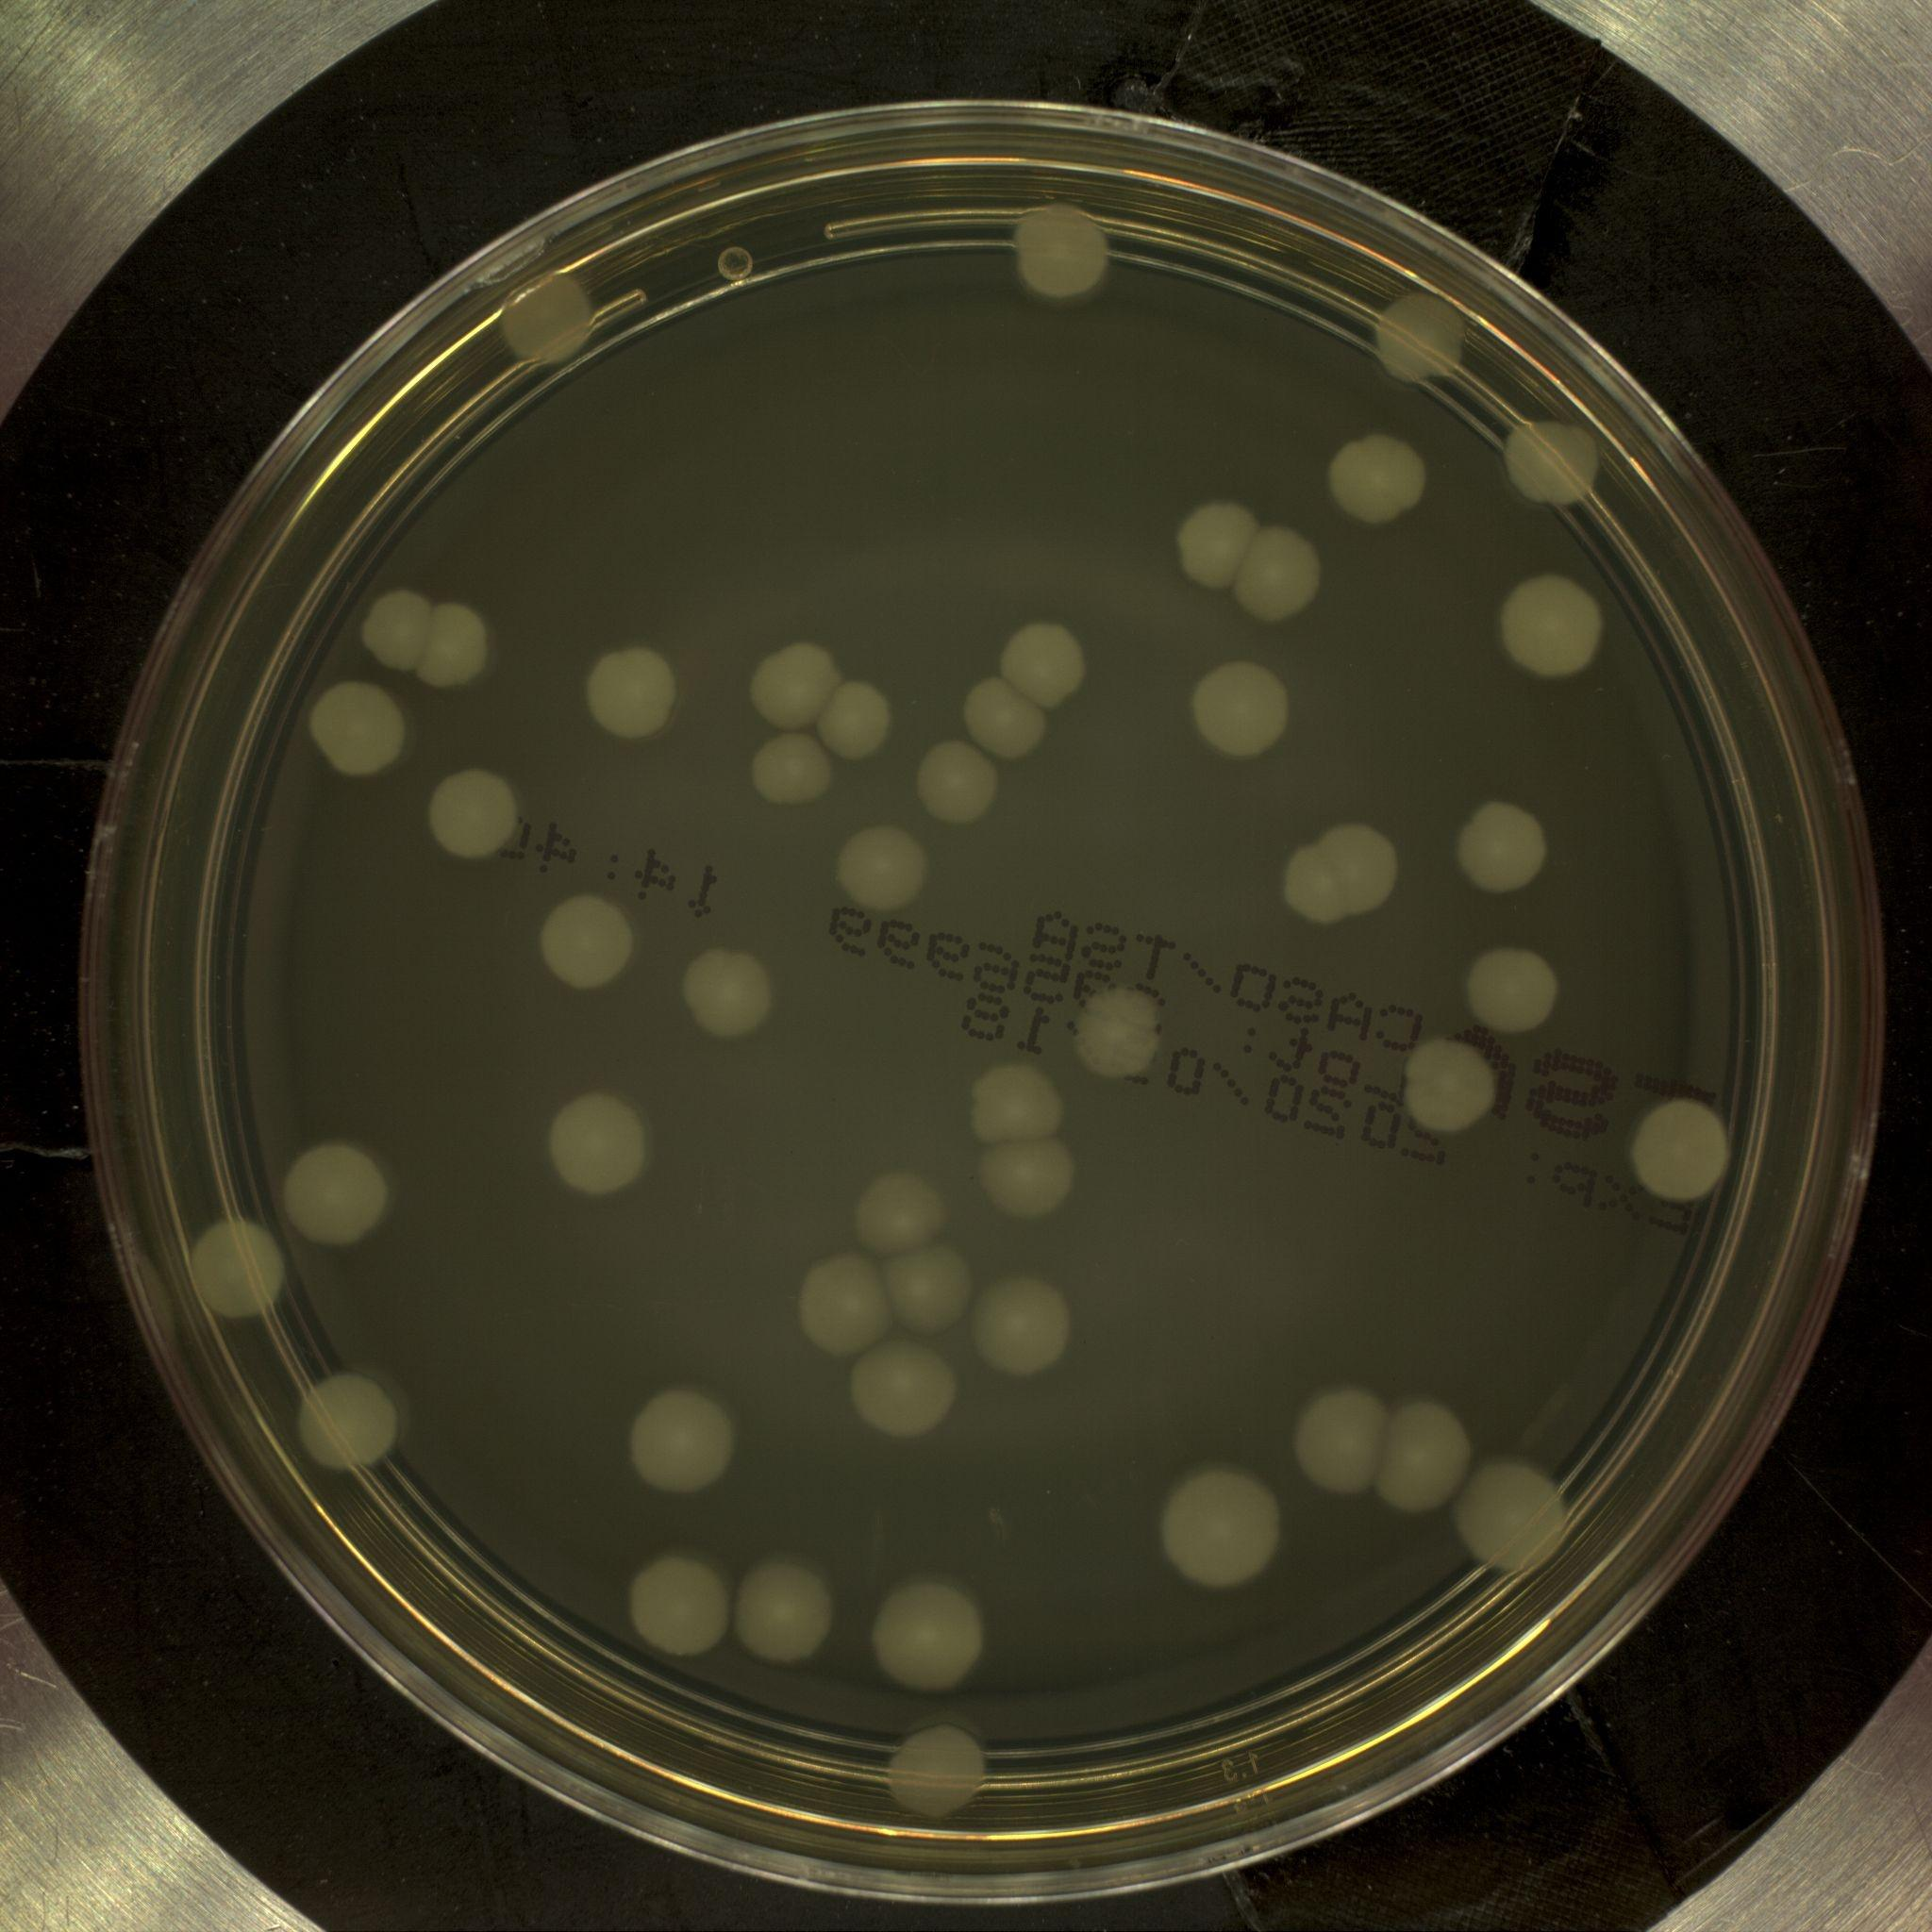e. coli: (1158, 1464, 1286, 1590), (1625, 1087, 1741, 1209), (1008, 191, 1119, 309), (1293, 1382, 1406, 1498), (1457, 1460, 1569, 1575), (1503, 391, 1605, 517), (793, 1250, 904, 1360), (875, 1574, 979, 1690), (635, 1385, 741, 1498), (1283, 821, 1399, 924), (842, 1335, 960, 1434), (300, 1370, 402, 1483), (737, 1549, 833, 1668), (1184, 653, 1293, 757), (182, 1215, 289, 1321), (1399, 1033, 1507, 1137), (885, 1719, 993, 1823), (1375, 1396, 1473, 1509), (1498, 575, 1604, 679), (550, 1092, 652, 1200), (286, 1134, 385, 1243), (539, 891, 640, 998), (621, 1555, 732, 1651), (1462, 941, 1569, 1040), (877, 1243, 977, 1347), (1074, 979, 1173, 1080), (845, 1168, 958, 1257), (1374, 281, 1467, 387), (677, 943, 776, 1042), (1324, 429, 1427, 524), (430, 759, 520, 868), (586, 646, 682, 745), (308, 679, 399, 783), (976, 1137, 1078, 1228), (958, 672, 1057, 764), (974, 1281, 1074, 1373), (501, 274, 597, 366), (1460, 794, 1548, 894), (998, 618, 1092, 709), (833, 821, 924, 915), (1234, 519, 1319, 618), (751, 641, 847, 728), (970, 1061, 1066, 1146), (913, 736, 1001, 823), (1175, 500, 1262, 587), (753, 724, 842, 807), (423, 602, 496, 693), (359, 587, 437, 668), (819, 679, 890, 764)
